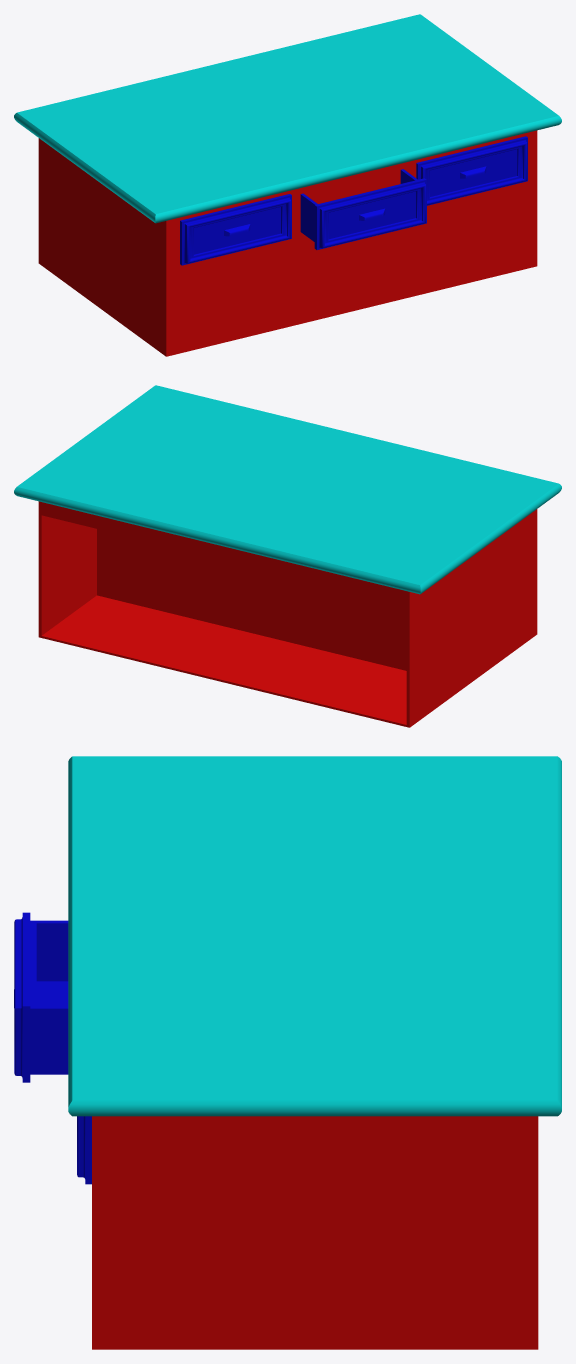
The model's file is kitchen_island 1.fbx.
3 renders of one model, top to bottom at view 1: azimuth 30°, elevation 25°; view 2: azimuth 150°, elevation 25°; view 3: azimuth 270°, elevation 25°, orthographic. The views are drawn at different scales.
Visible parts, largest first — view 1: kitchen_island; view 2: kitchen_island; view 3: kitchen_island.
Part boxes in pixels (<box>): kitchen_island: <box>14,14,561,356</box>; kitchen_island: <box>14,385,561,727</box>; kitchen_island: <box>14,756,561,1349</box>.
Bounding box in the file's own units: 22.52 × 7.97 × 15.04.
